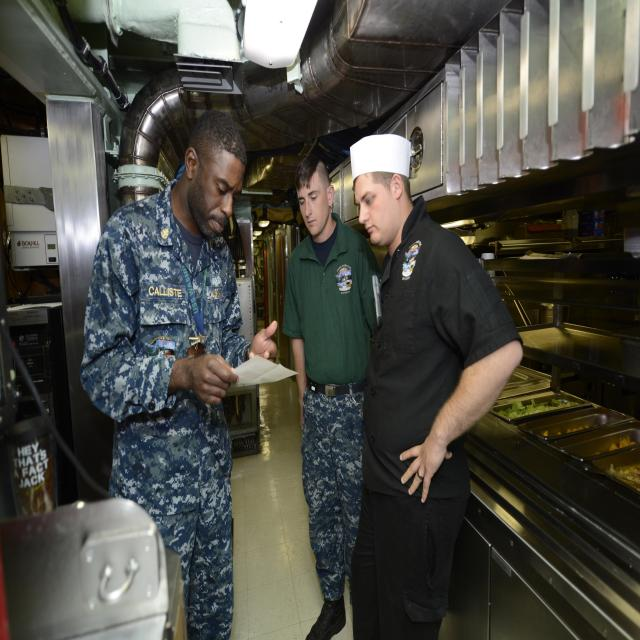sin_chaleco: (97, 194, 245, 427), (353, 199, 486, 452), (284, 218, 378, 406)
